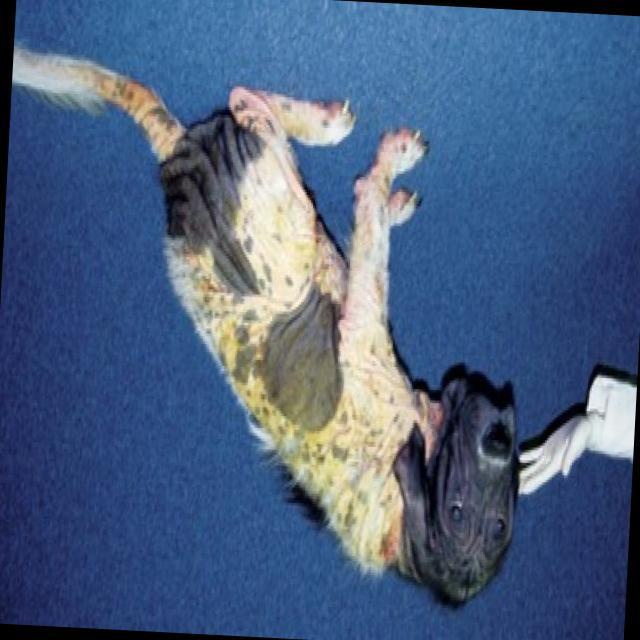fungal infection: (162, 151, 428, 568), (63, 60, 179, 130), (232, 85, 350, 145)
